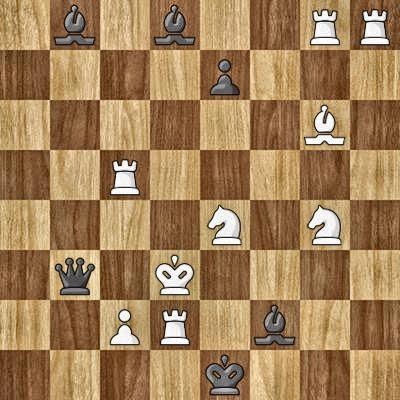black-bishop: (50, 0, 100, 50), (150, 0, 200, 50), (250, 300, 300, 350)
black-king: (200, 350, 250, 400)
black-pawn: (200, 50, 250, 100)
black-queen: (50, 250, 100, 300)
white-bishop: (300, 100, 350, 150)
white-king: (150, 250, 200, 300)
white-knight: (200, 200, 250, 250), (300, 200, 350, 250)
white-pawn: (100, 300, 150, 350)
white-rook: (300, 0, 350, 50), (350, 0, 400, 50), (100, 150, 150, 200), (150, 300, 200, 350)
